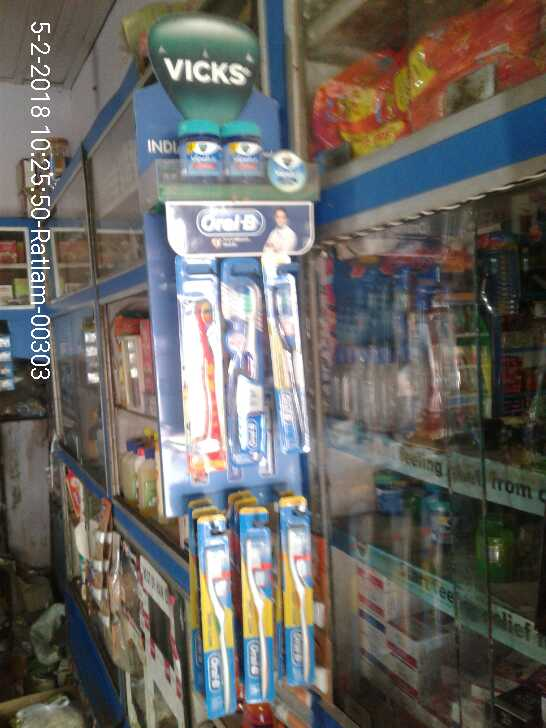vicks: (177, 112, 274, 200)
